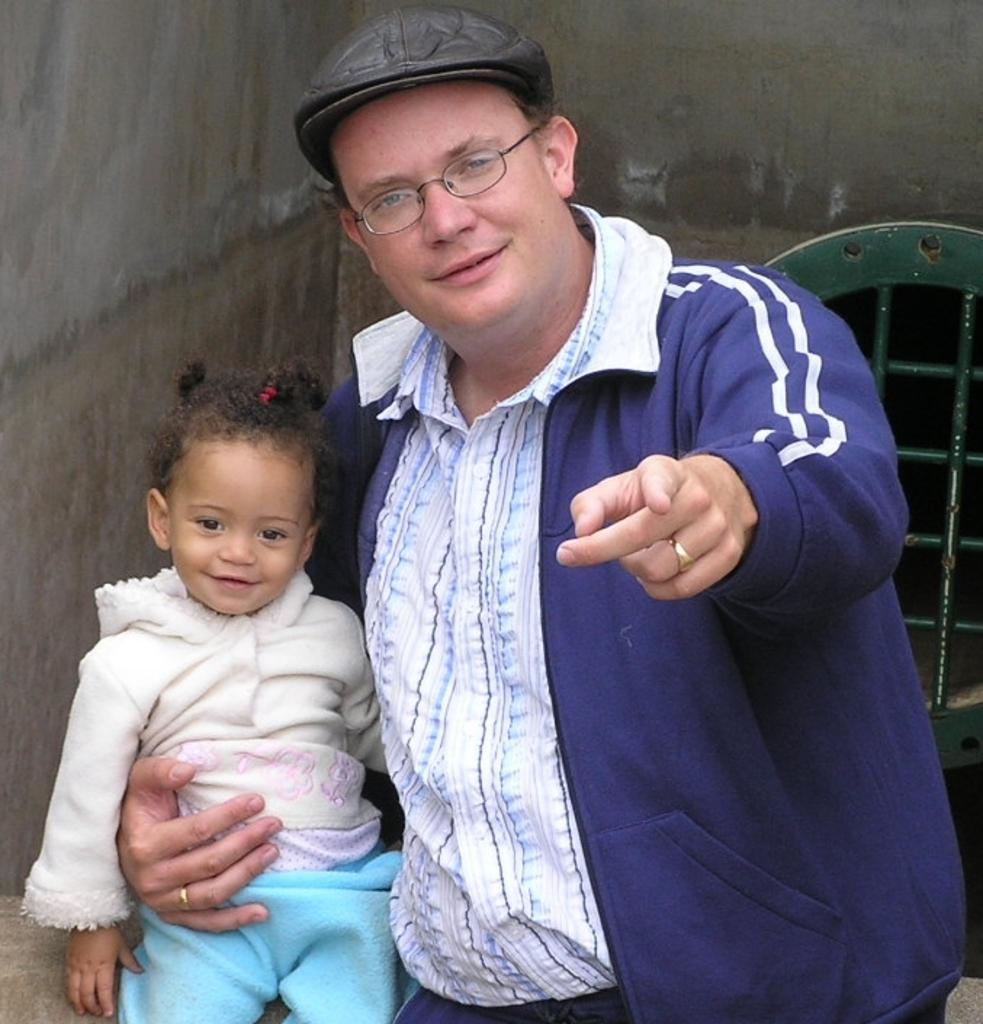Hat: (296, 6, 550, 188)
